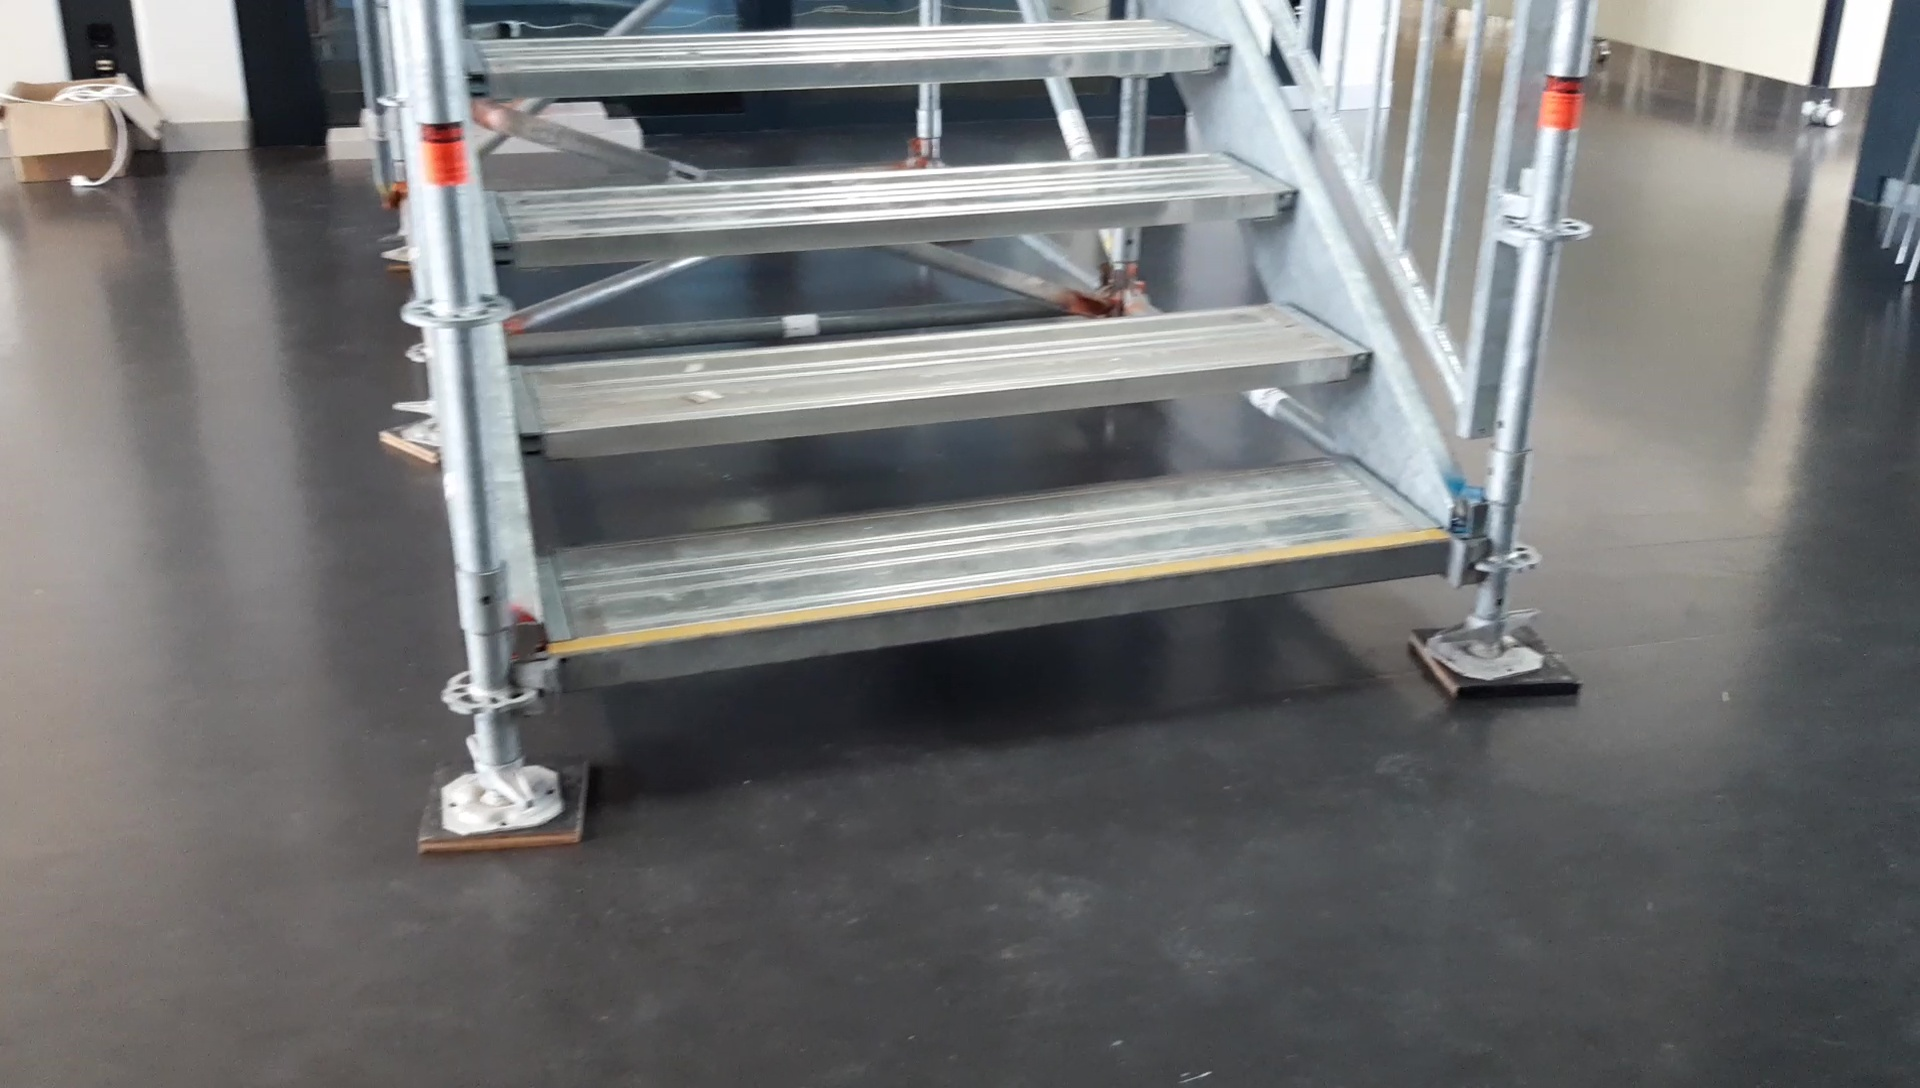edge: (558, 539, 1448, 688), (520, 349, 1373, 455), (495, 187, 1300, 265), (465, 41, 1232, 94)
stairs: (397, 5, 1580, 845)
